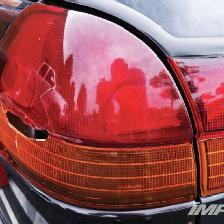tail_lamp: (9, 31, 154, 216)
